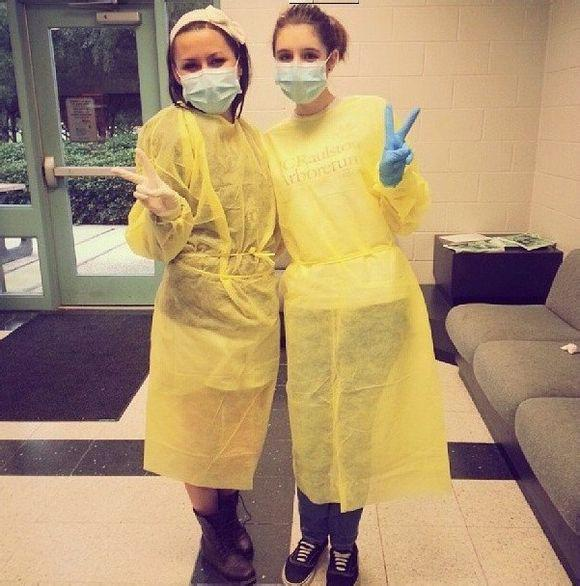OK: (176, 49, 239, 112), (276, 38, 332, 102)
